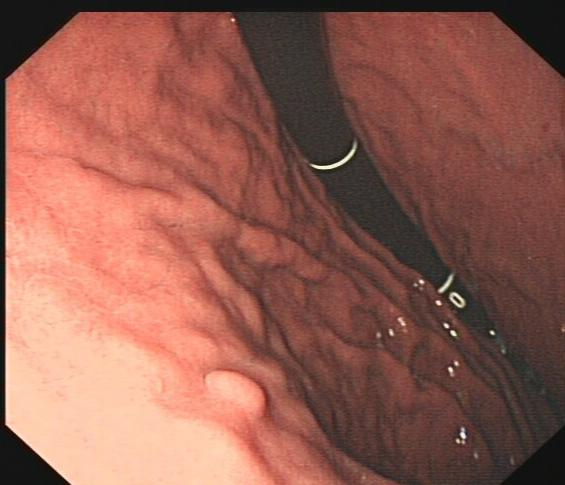Polyp: (198, 362, 269, 424)
